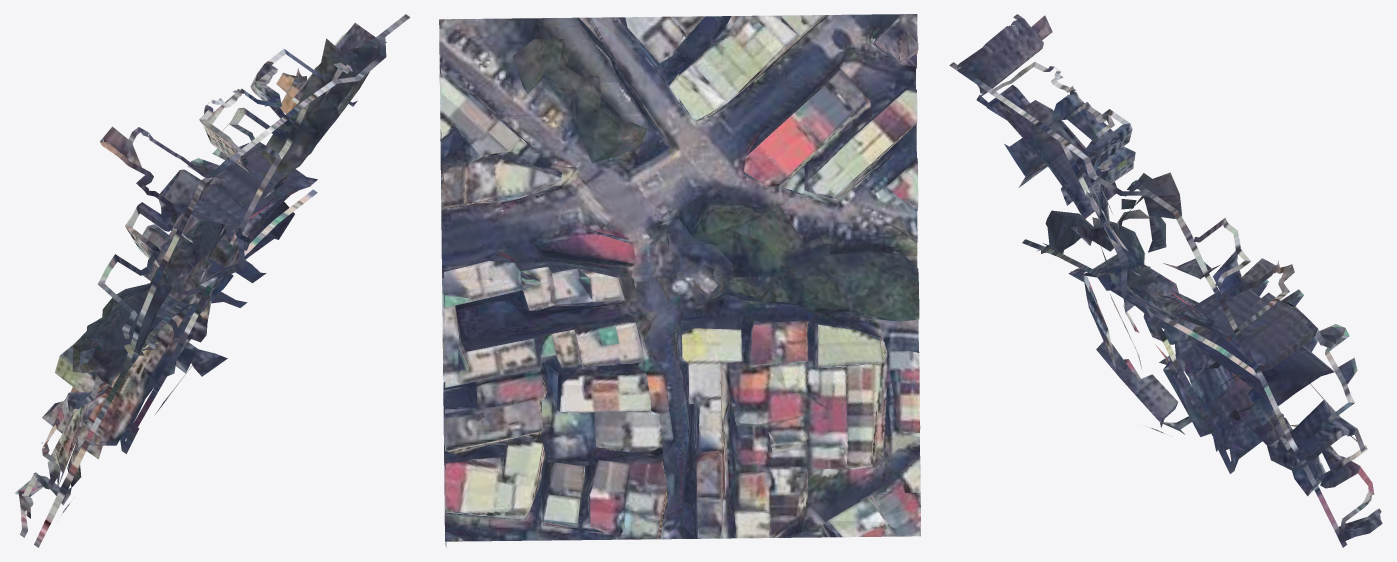
3 views of the same model, side by side, from view 1: azimuth 30°, elevation 25°; view 2: azimuth 150°, elevation 25°; view 3: azimuth 270°, elevation 25° (orthographic). The views are drawn at different scales.
Bounding box in the file's own units: 152 × 152 × 143.
1 material, 1 textured.
